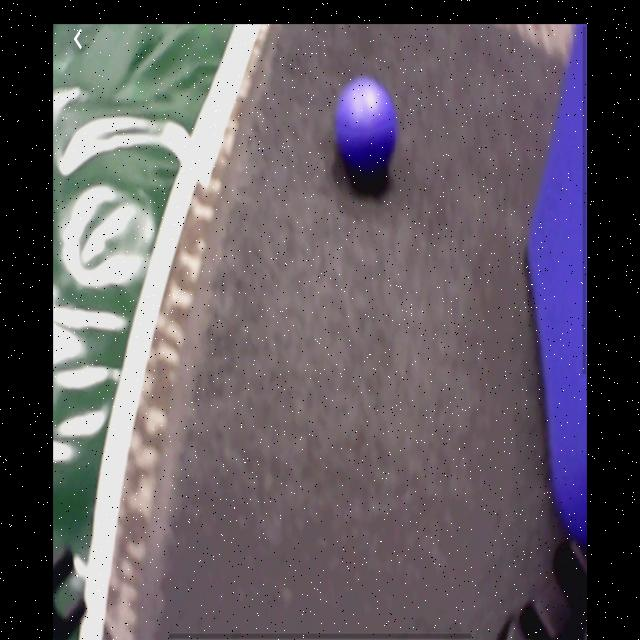ball: (336, 78, 397, 170)
